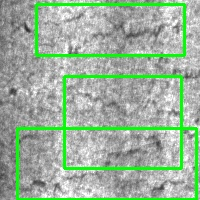crazing: (17, 128, 196, 199), (64, 76, 181, 168), (36, 4, 184, 55)
